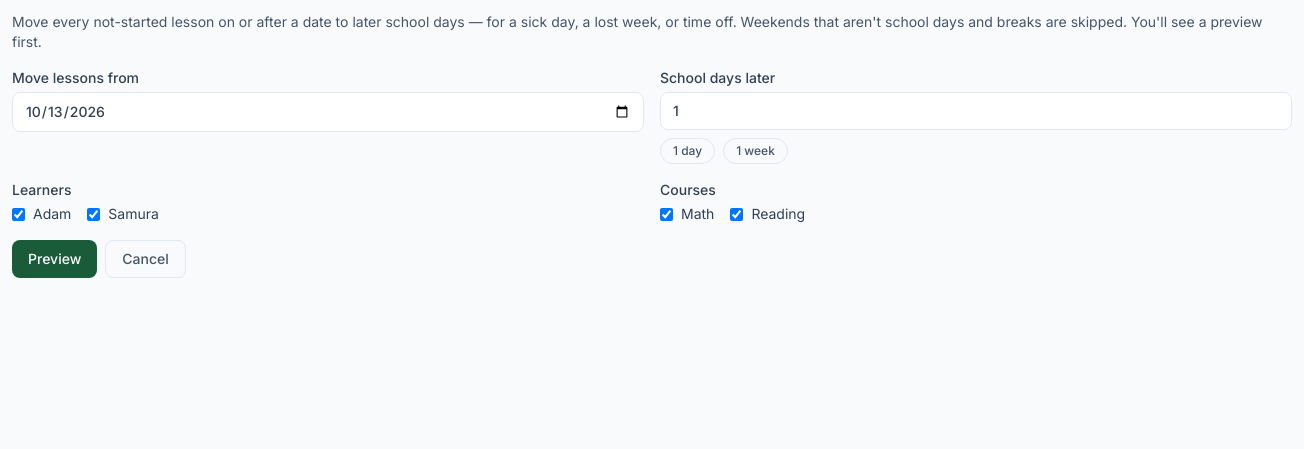
ShiftLessonsPanel — preview › sends no filters when everything is selected, and summarizes the moves
Step 1. Click the button "1 week" → click(756, 151), box left=723, top=138, right=788, bottom=164
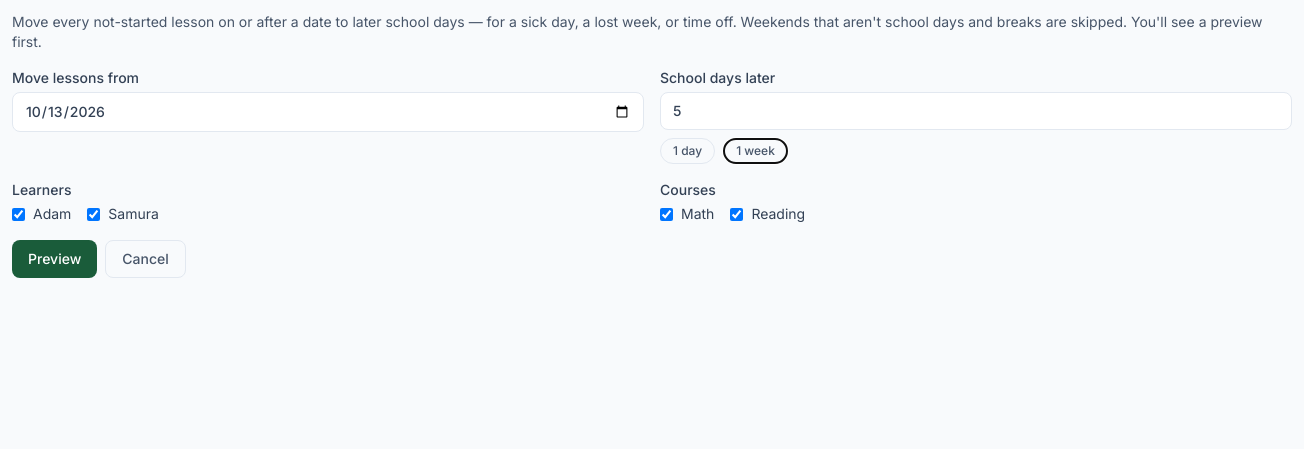
Step 2. Click the button "Preview" → click(55, 259), box left=12, top=240, right=97, bottom=278
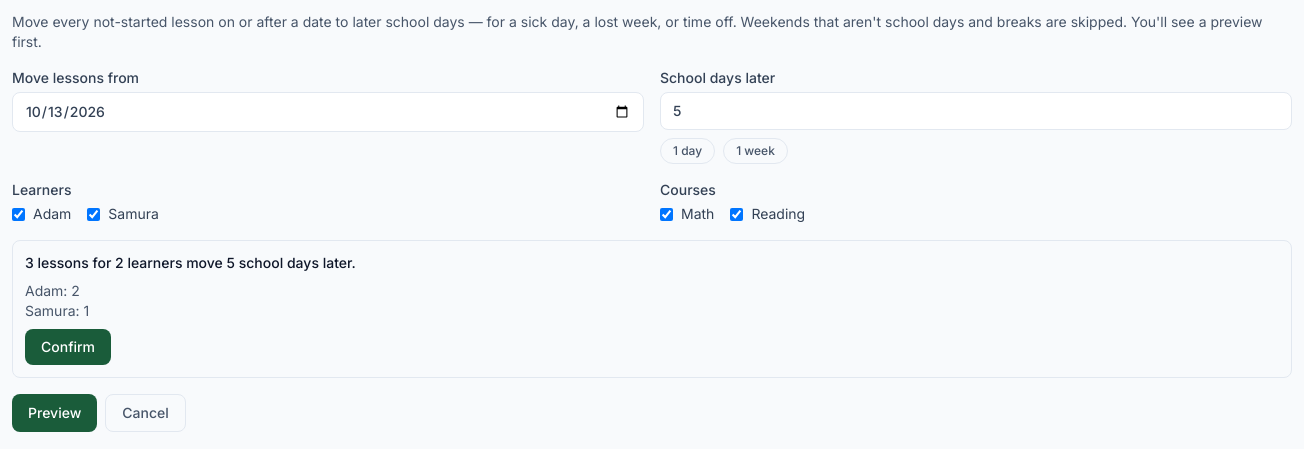
Check: the element with test id "shift-preview" shows "3 lessons for 2 learners move 5 school days later.", box left=12, top=240, right=1292, bottom=378
Check: the element with test id "shift-preview" shows "Adam: 2", box left=12, top=240, right=1292, bottom=378
Check: the element with test id "shift-preview" shows "Samura: 1", box left=12, top=240, right=1292, bottom=378
